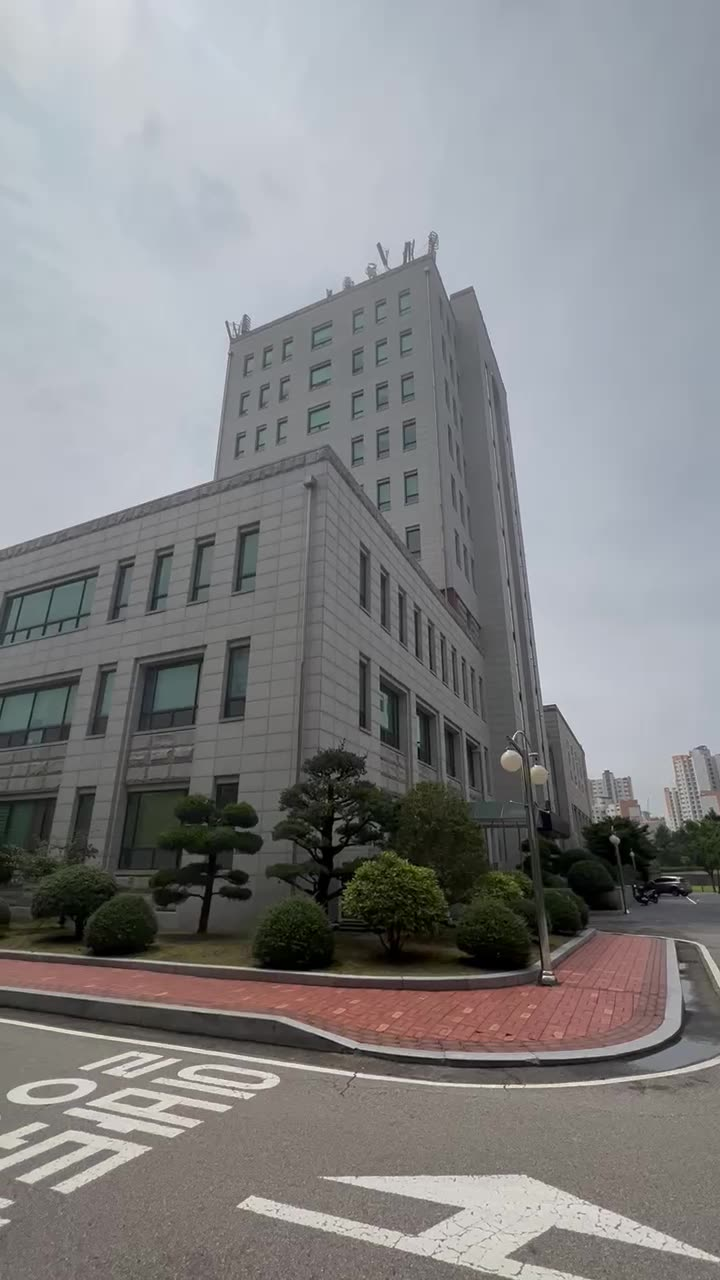low: (0, 260, 538, 748)
